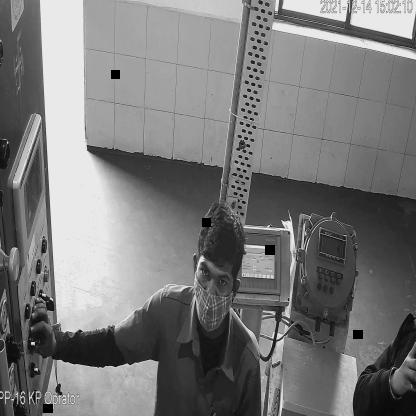no_goggles: (200, 257, 234, 295)
